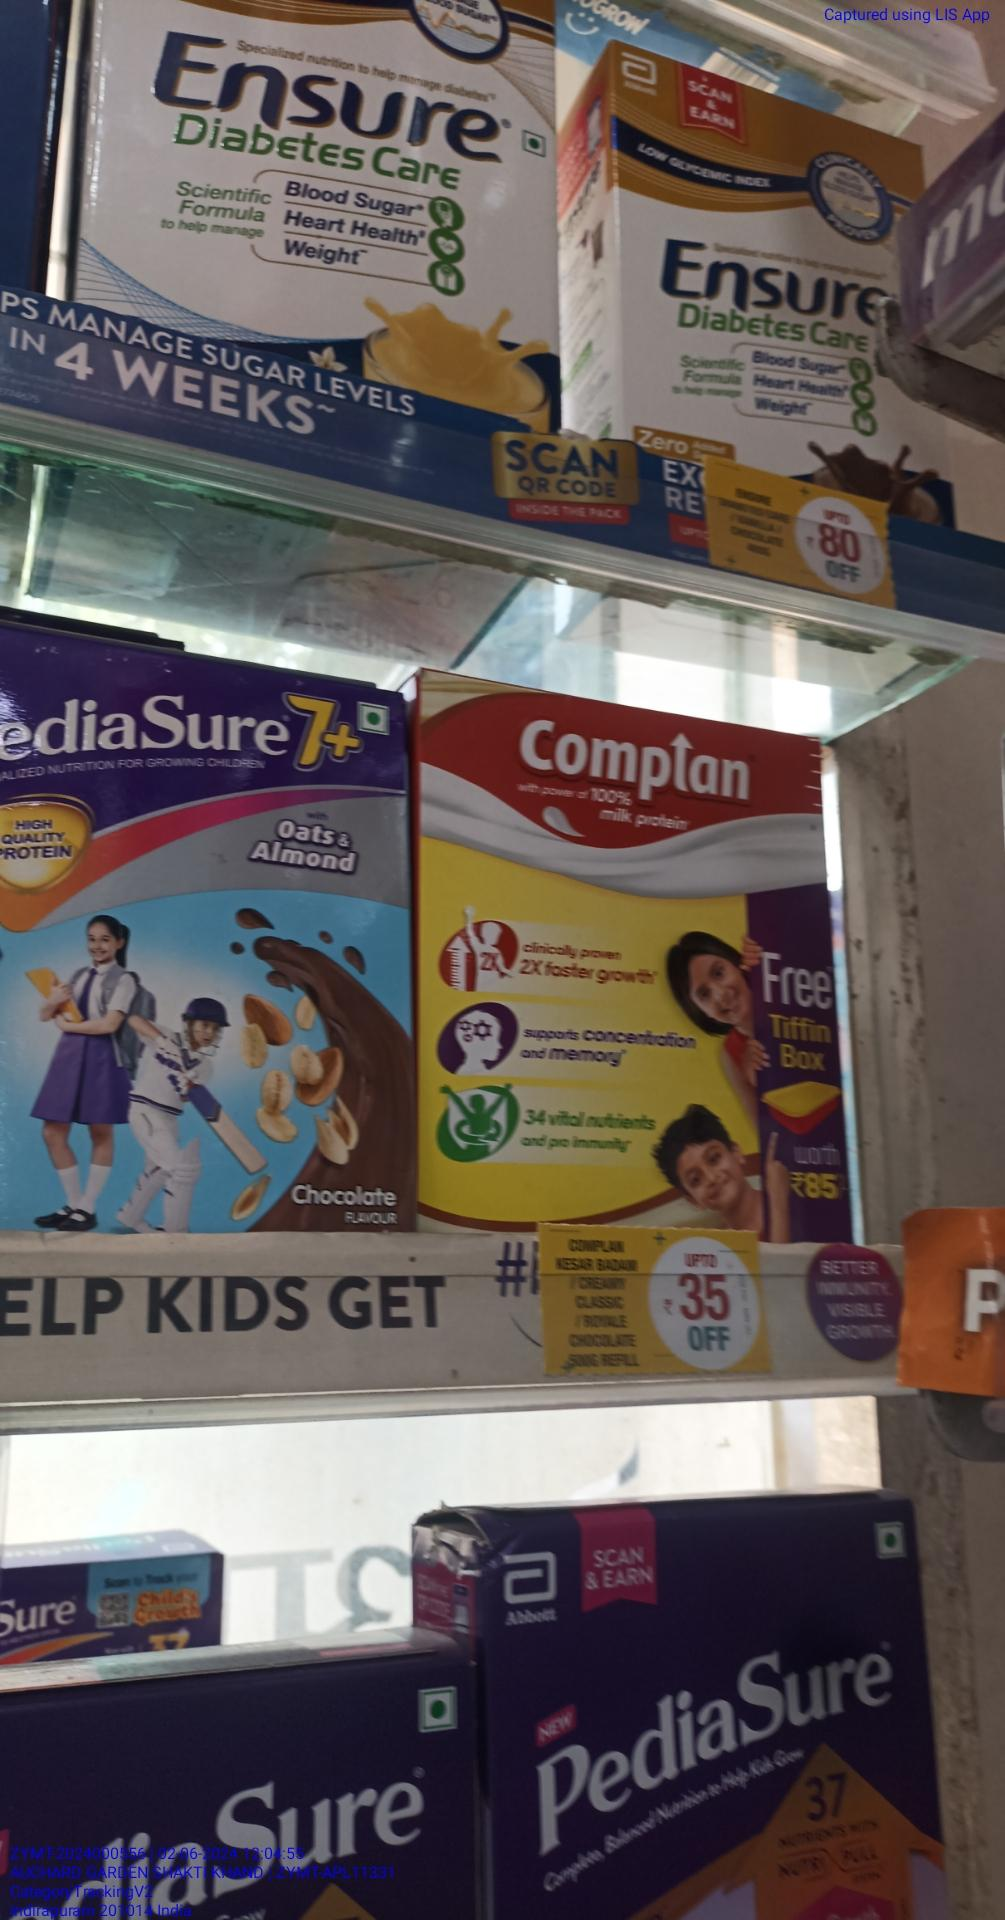PEDIASURE_7_PLUS_CHOCOLATE_400_G_PACK: (0, 618, 415, 1246)
